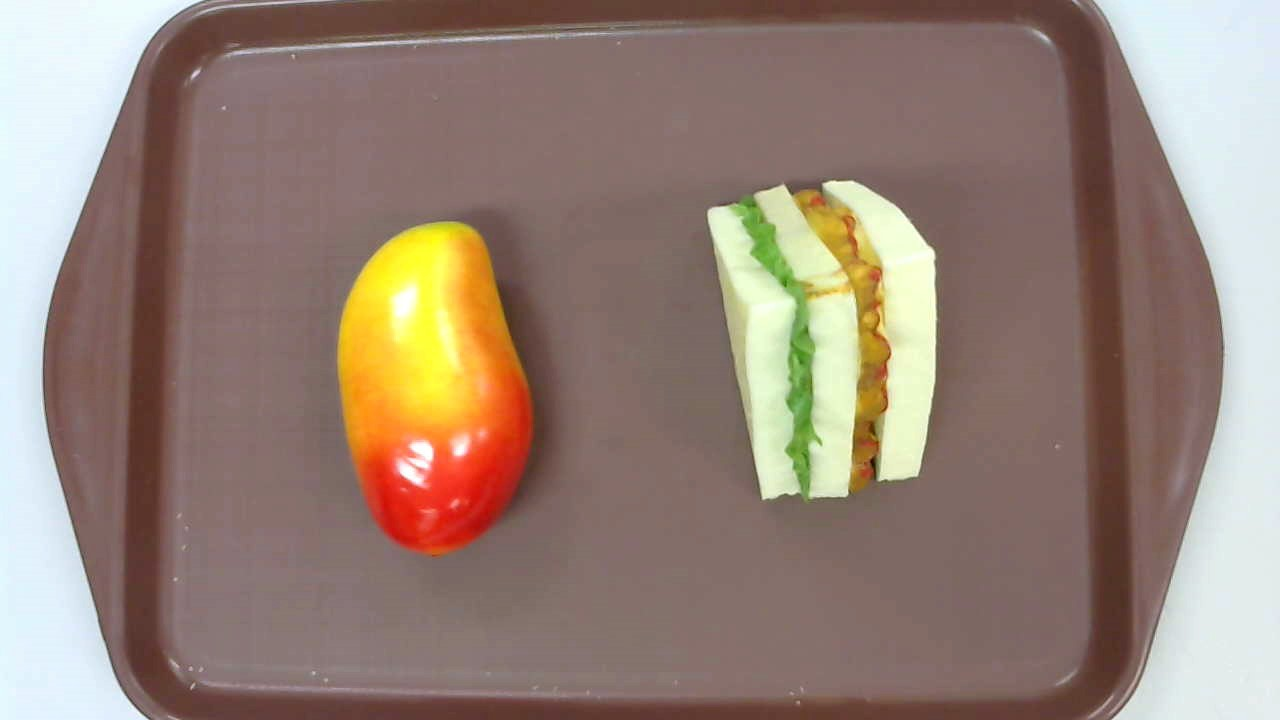red mango: (336, 221, 535, 557)
sandwich: (705, 181, 937, 503)
